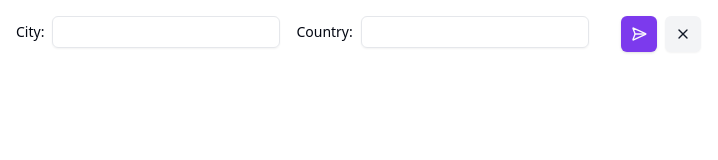
Scenario: GetWeatherForm › shows validation errors if country input is not 2 characters
# Try to submit empty form
Click the button named "search". click: (639, 34)
box: [621, 16, 657, 52]
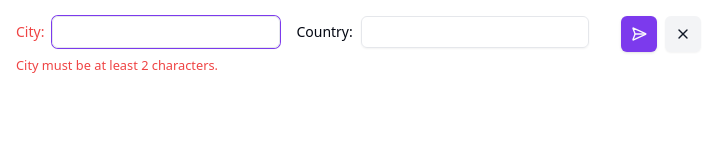
# Fill in the form
Type "London" into the field labelled "City:". click: (166, 32)
box: [52, 16, 280, 48]
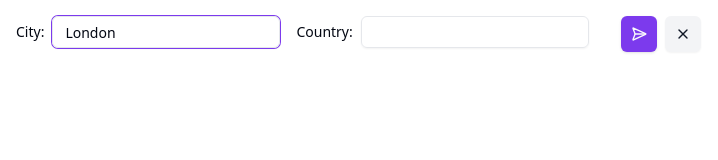
Type "GBBB" into the field labelled "Country:". click: (475, 32)
box: [361, 16, 589, 48]
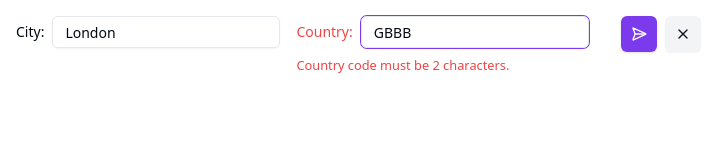
Expected: the text "Country code must be 2 characters." is shown, [296, 56, 509, 74]
